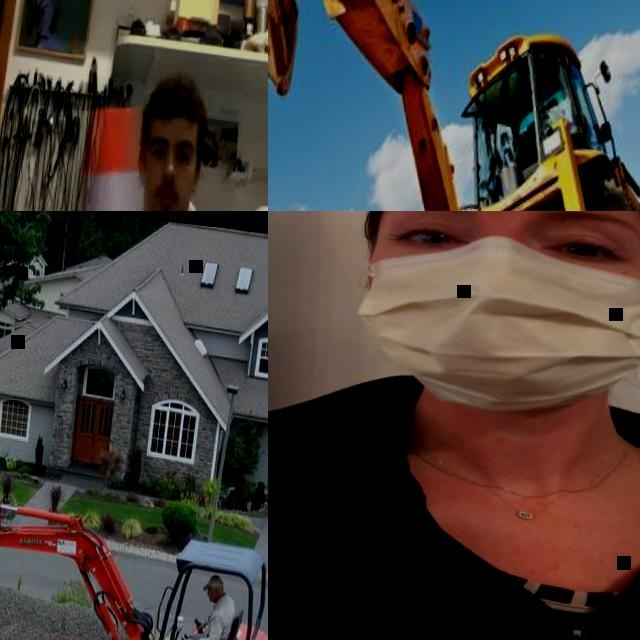Mask: (348, 234, 640, 427)
NO-Hardhat: (145, 73, 207, 129), (203, 572, 225, 589)
NO-Mask: (148, 185, 187, 211), (207, 592, 218, 601)
NO-Safety Vest: (268, 392, 640, 640), (205, 593, 235, 640)
Person: (268, 211, 640, 640), (26, 61, 264, 211), (164, 567, 238, 640)
Safety Cone: (30, 93, 212, 211)
machinery: (268, 0, 640, 211), (0, 490, 268, 640)
